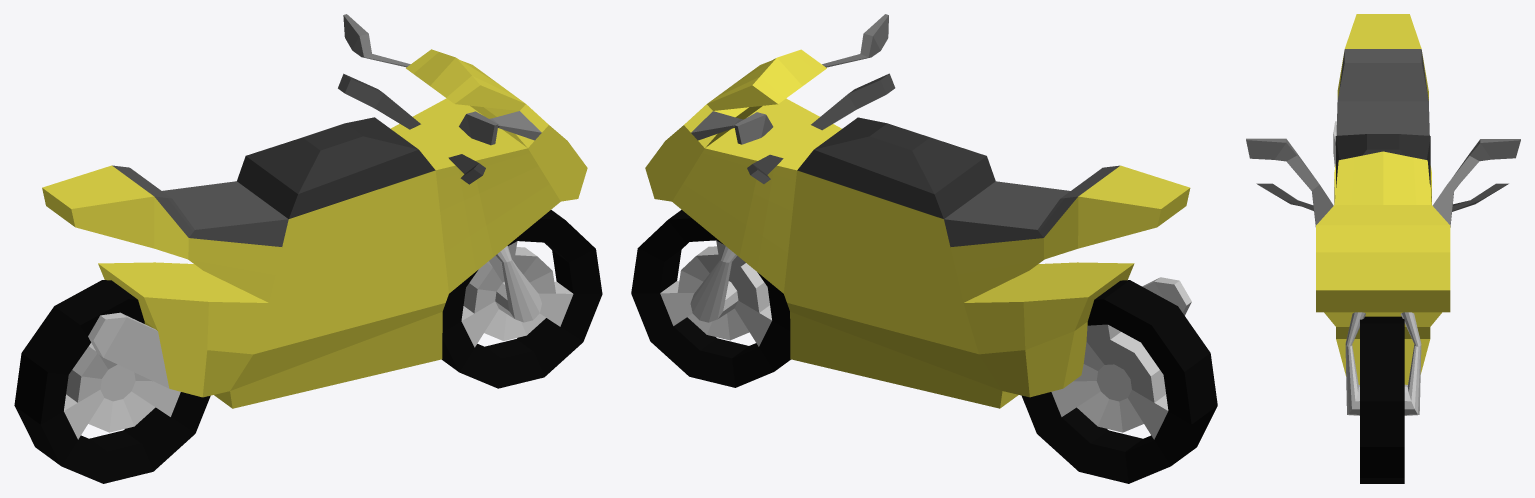
The model's file is Motorcycle.fbx.
3 renders of one model, left to right at view 1: azimuth 30°, elevation 25°; view 2: azimuth 150°, elevation 25°; view 3: azimuth 270°, elevation 25°, orthographic. The views are drawn at different scales.
Parts seen in each view (by area): view 1: Motorcycle; view 2: Motorcycle; view 3: Motorcycle.
Part boxes in pixels (x1=…): Motorcycle: x1=14, y1=14, x2=602, y2=483; Motorcycle: x1=631, y1=14, x2=1217, y2=483; Motorcycle: x1=1246, y1=14, x2=1520, y2=483.
Bounding box in the file's own units: 913 × 511 × 426.
